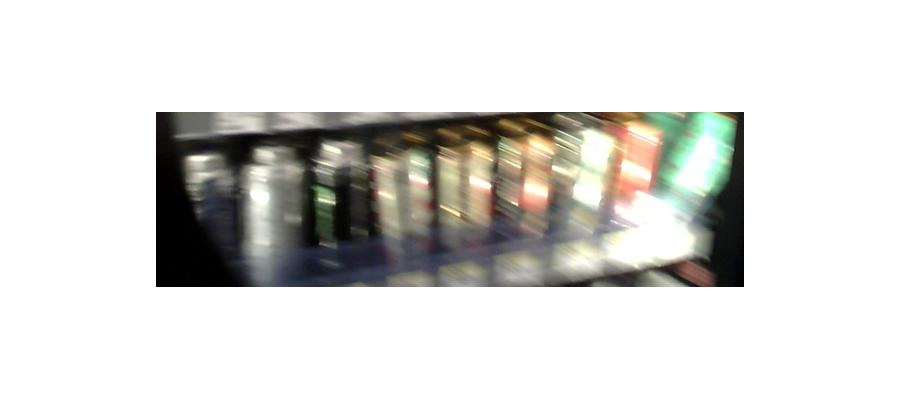bottle: (239, 149, 304, 276), (380, 142, 437, 271)
